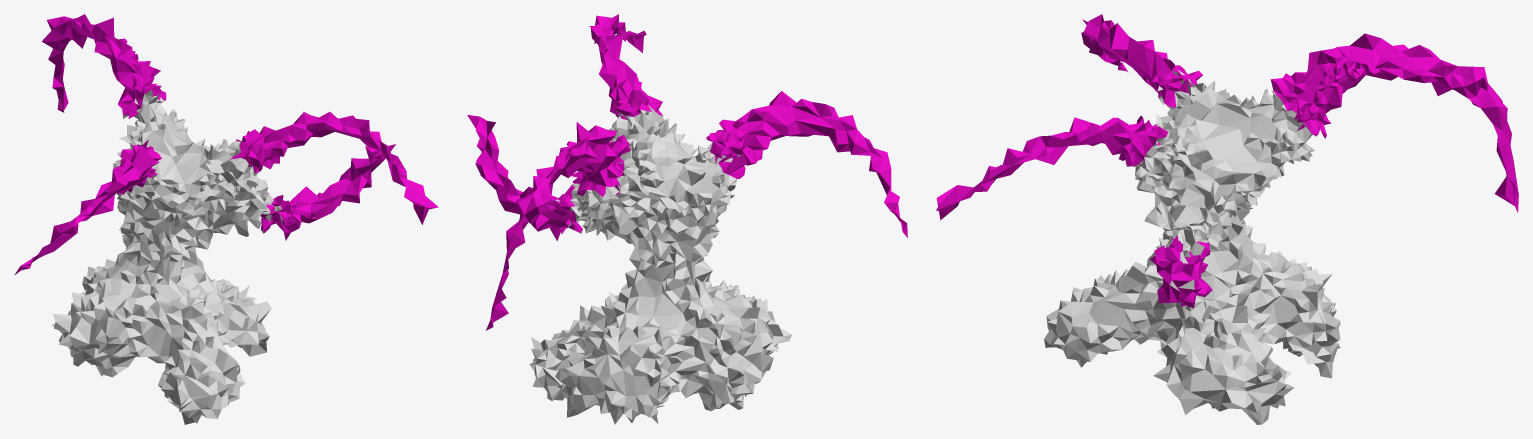
The model's file is WeirdTree.fbx.
3 views of the same model, side by side, from view 1: azimuth 30°, elevation 25°; view 2: azimuth 150°, elevation 25°; view 3: azimuth 270°, elevation 25° (orthographic). The views are drawn at different scales.
Parts seen in each view (by area): view 1: Cube; view 2: Cube; view 3: Cube.
Boxes of the visible parts, x1,y1,x2,y2 form: Cube: (14, 14, 438, 424); Cube: (467, 14, 907, 424); Cube: (936, 14, 1518, 424).
Size of the model in its own units: 1871 by 1395 by 2084.
